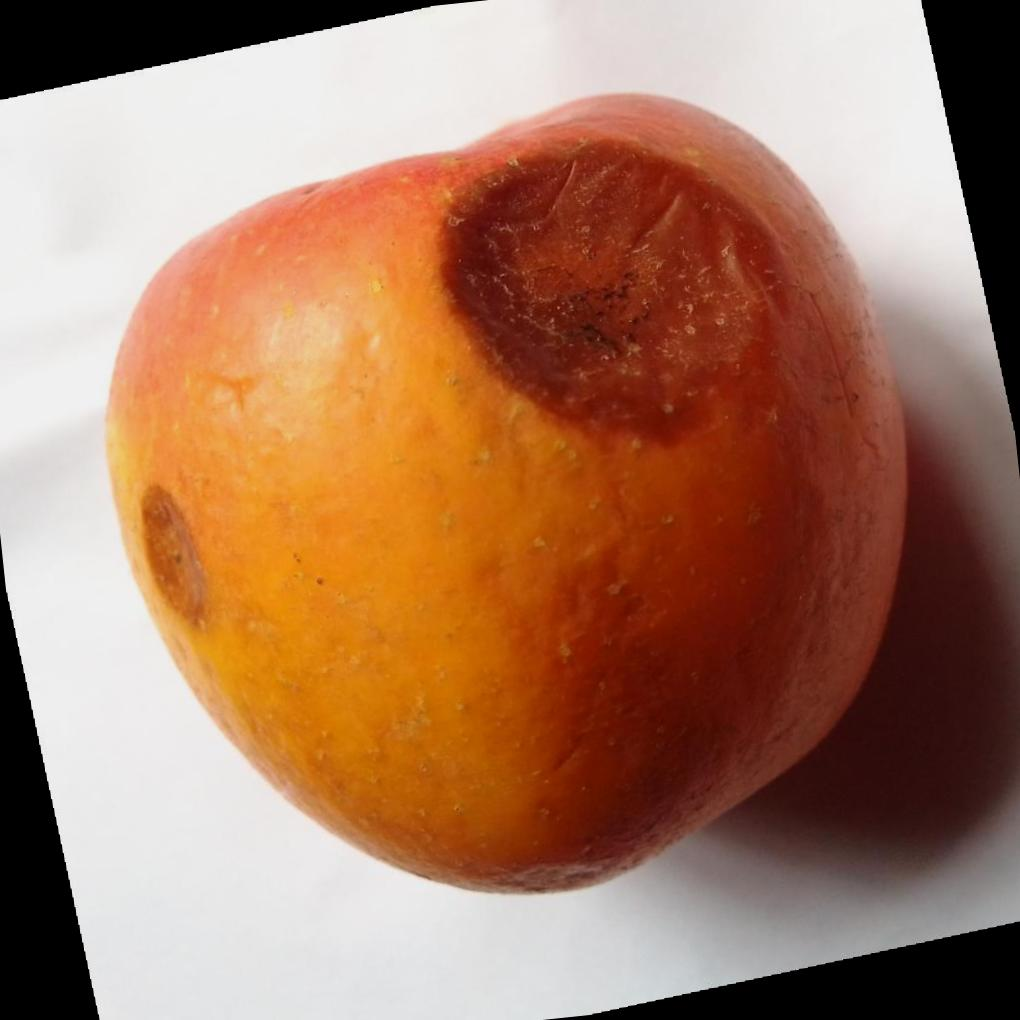FreshOrange: (101, 95, 909, 900)
